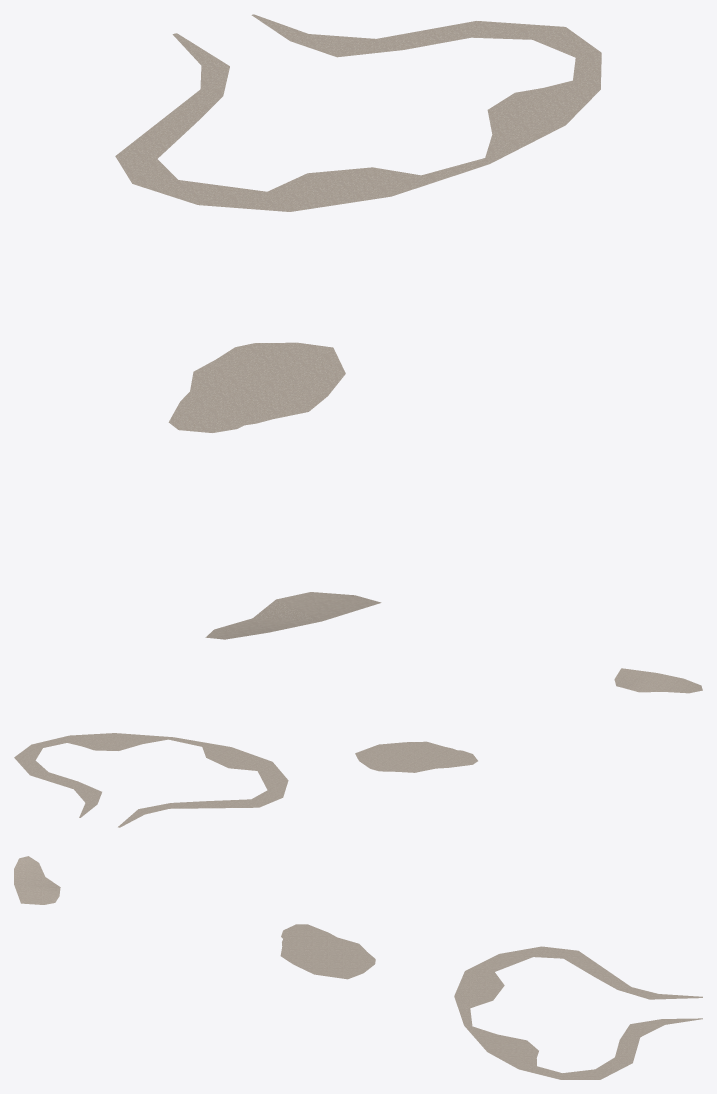
Rendered from kd_stage_135ebf_0_49.glb.
3 renders of one model, top to bottom at view 1: azimuth 30°, elevation 25°; view 2: azimuth 150°, elevation 25°; view 3: azimuth 270°, elevation 25°, orthographic. The views are drawn at different scales.
Visible parts, largest first — view 1: kd_stage_135ebf_0_49; view 2: kd_stage_135ebf_0_49; view 3: kd_stage_135ebf_0_49.
Boxes of the visible parts, <box> form: kd_stage_135ebf_0_49: <box>115,14,601,639</box>; kd_stage_135ebf_0_49: <box>14,668,702,827</box>; kd_stage_135ebf_0_49: <box>14,856,702,1079</box>.
Bounding box in the file's own units: 8.59 × 0.4199 × 10.48.
Materials: 1 (1 with a texture image).
